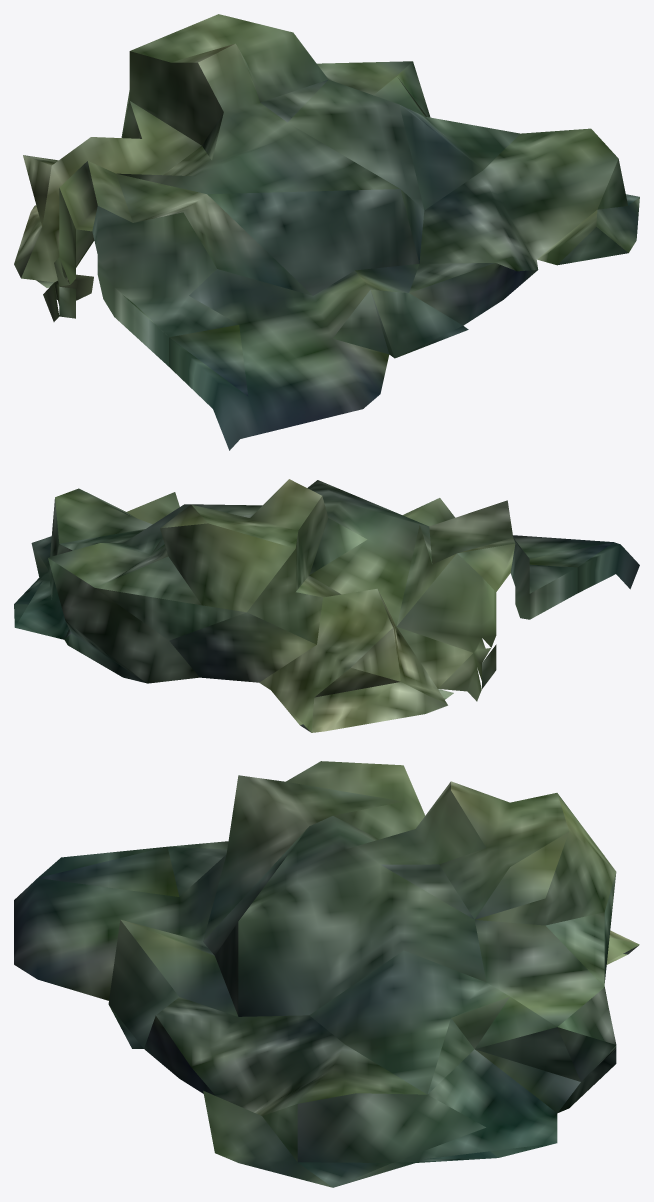
3 views of the same model, one above another, from view 1: azimuth 30°, elevation 25°; view 2: azimuth 150°, elevation 25°; view 3: azimuth 270°, elevation 25° (orthographic). The views are drawn at different scales.
Visible parts, largest first — view 1: 30436272704370624704_0; view 2: 30436272704370624704_0; view 3: 30436272704370624704_0.
Boxes of the visible parts, box(x1,y1,x2,y2) form: 30436272704370624704_0: box(14, 14, 639, 450); 30436272704370624704_0: box(14, 479, 639, 732); 30436272704370624704_0: box(14, 761, 639, 1187).
Size of the model in its own units: 8.9 by 3.39 by 8.18.
Materials: 1 (1 with a texture image).
